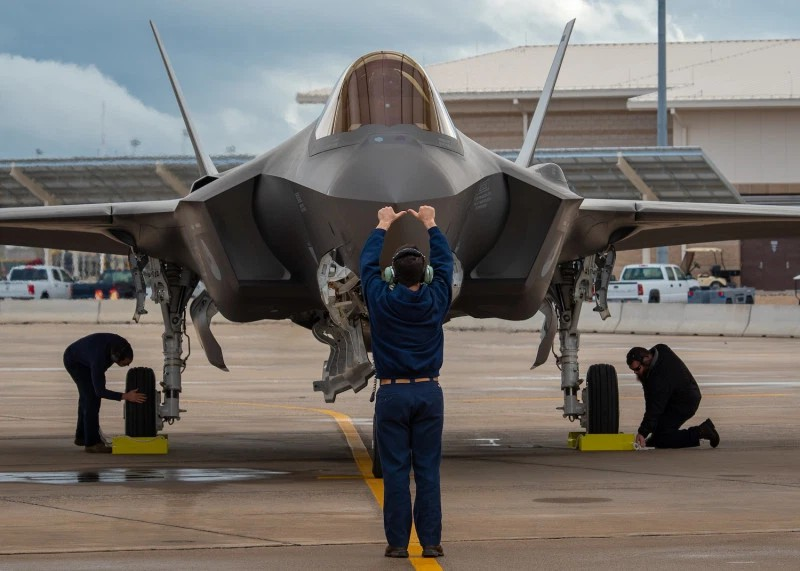F-35 Lightning: (28, 11, 781, 466)
